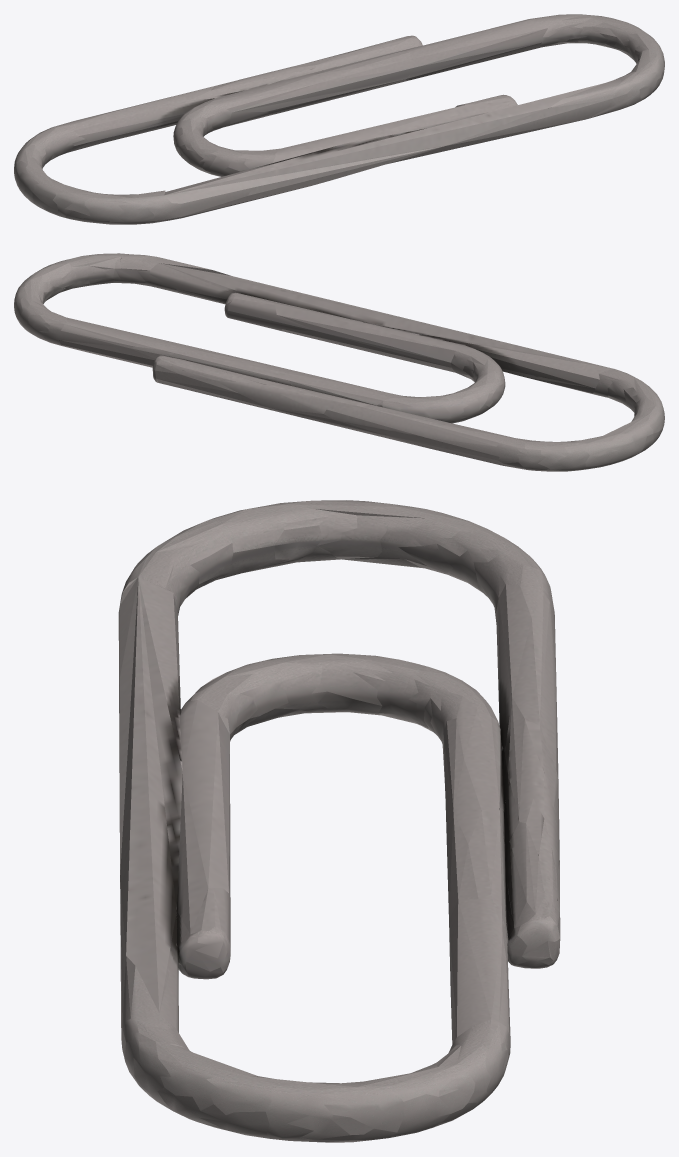
The model's file is paper_clip.glb.
3 renders of one model, top to bottom at view 1: azimuth 30°, elevation 25°; view 2: azimuth 150°, elevation 25°; view 3: azimuth 270°, elevation 25°, orthographic. The views are drawn at different scales.
Visible parts, largest first — view 1: output_unwrapped; view 2: output_unwrapped; view 3: output_unwrapped.
Part boxes in pixels (left/top/right/bottom): output_unwrapped: left=14, top=14, right=664, bottom=224; output_unwrapped: left=14, top=253, right=664, bottom=471; output_unwrapped: left=118, top=500, right=560, bottom=1142.
Size of the model in its own units: 1.9 by 0.0765 by 0.5864.
Materials: 1 (1 with a texture image).
